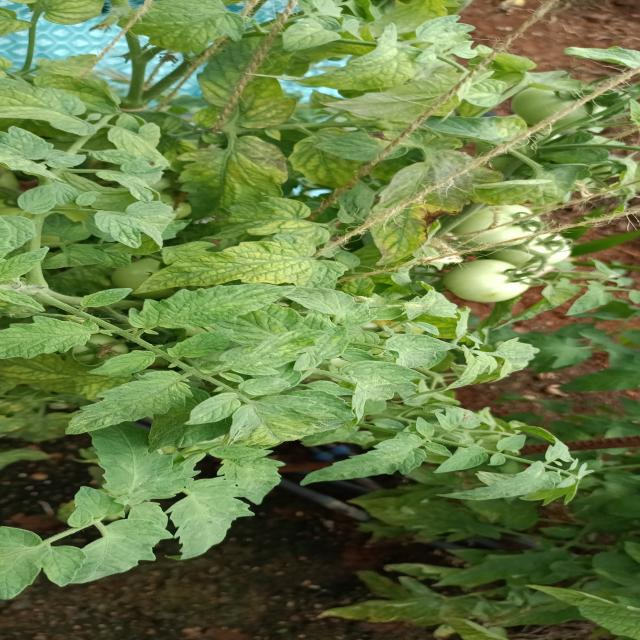Healthy Leaf: (142, 233, 373, 295), (145, 280, 303, 338), (60, 371, 192, 439), (164, 481, 251, 569), (300, 432, 436, 482)
